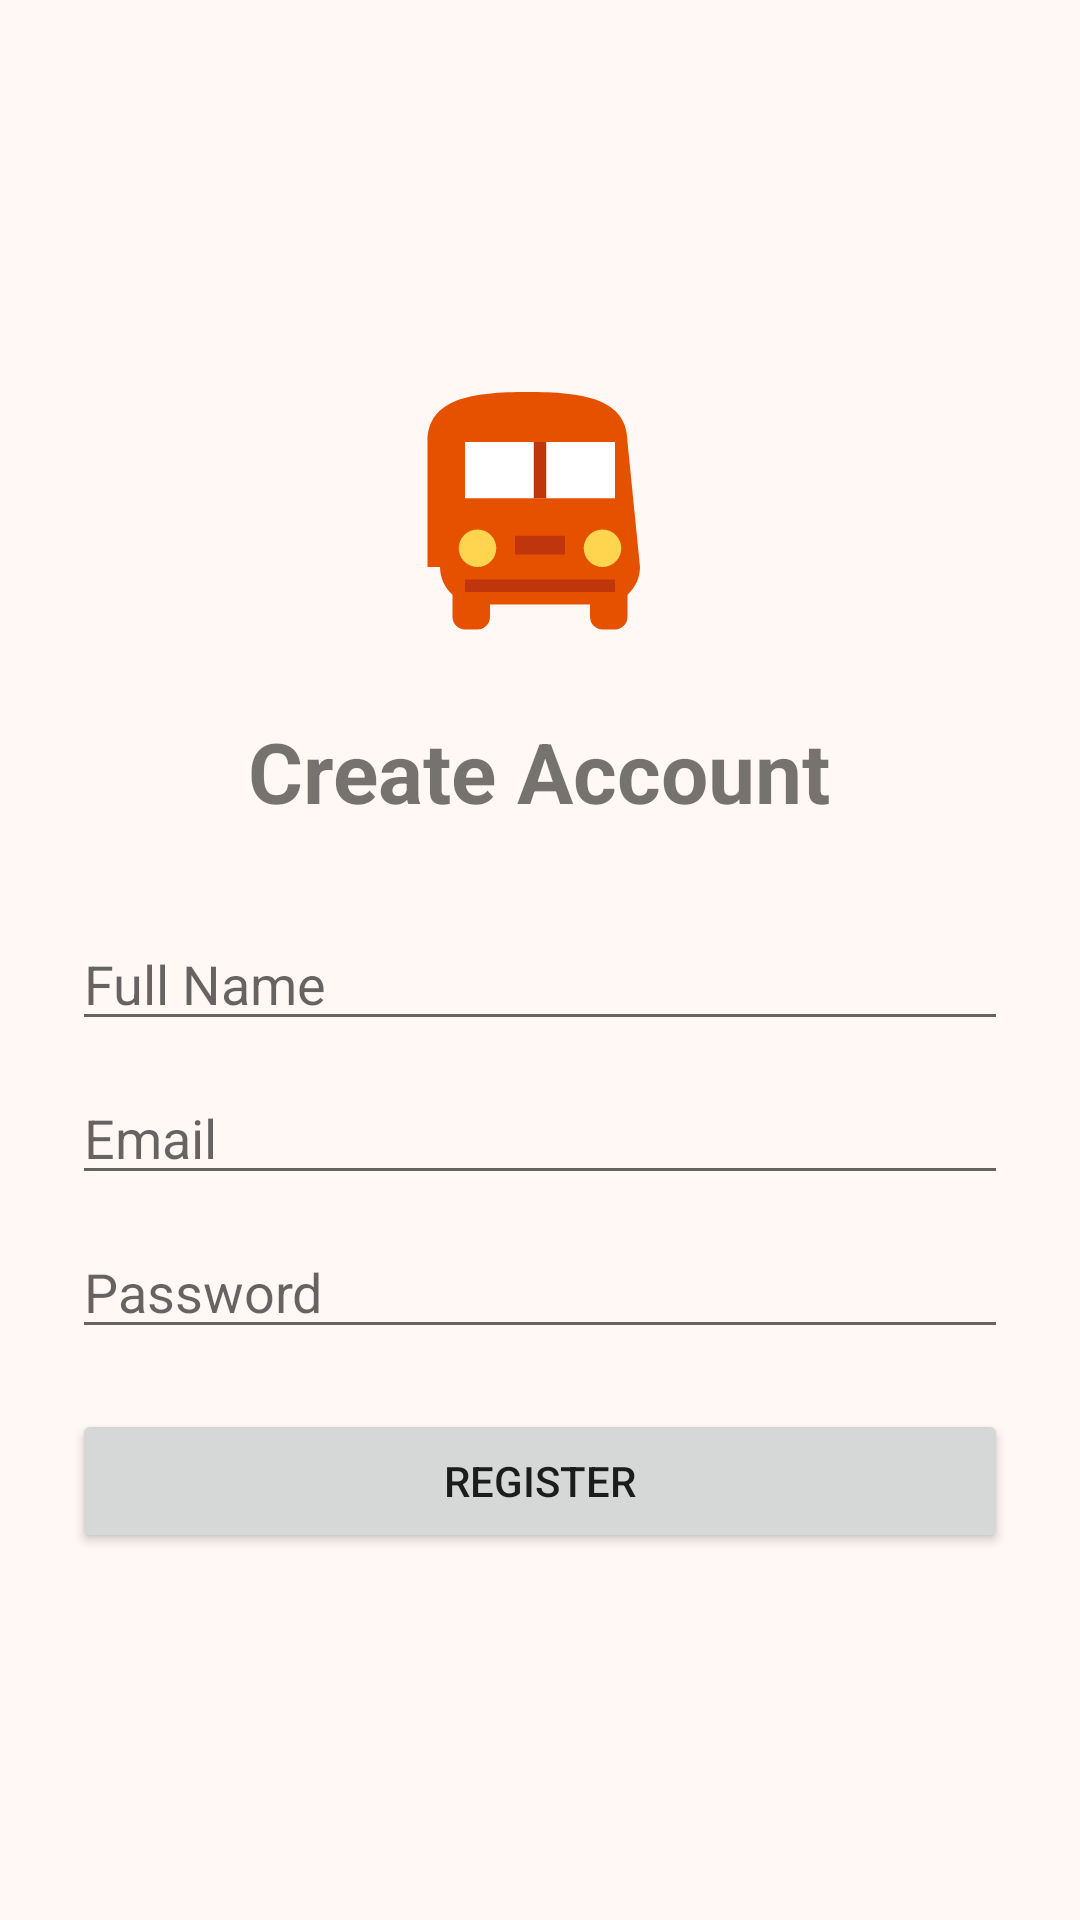

Screen size 1080*1920. Icon name, then its center in pixels as (x,y):
bus beautiful: (533,511)
